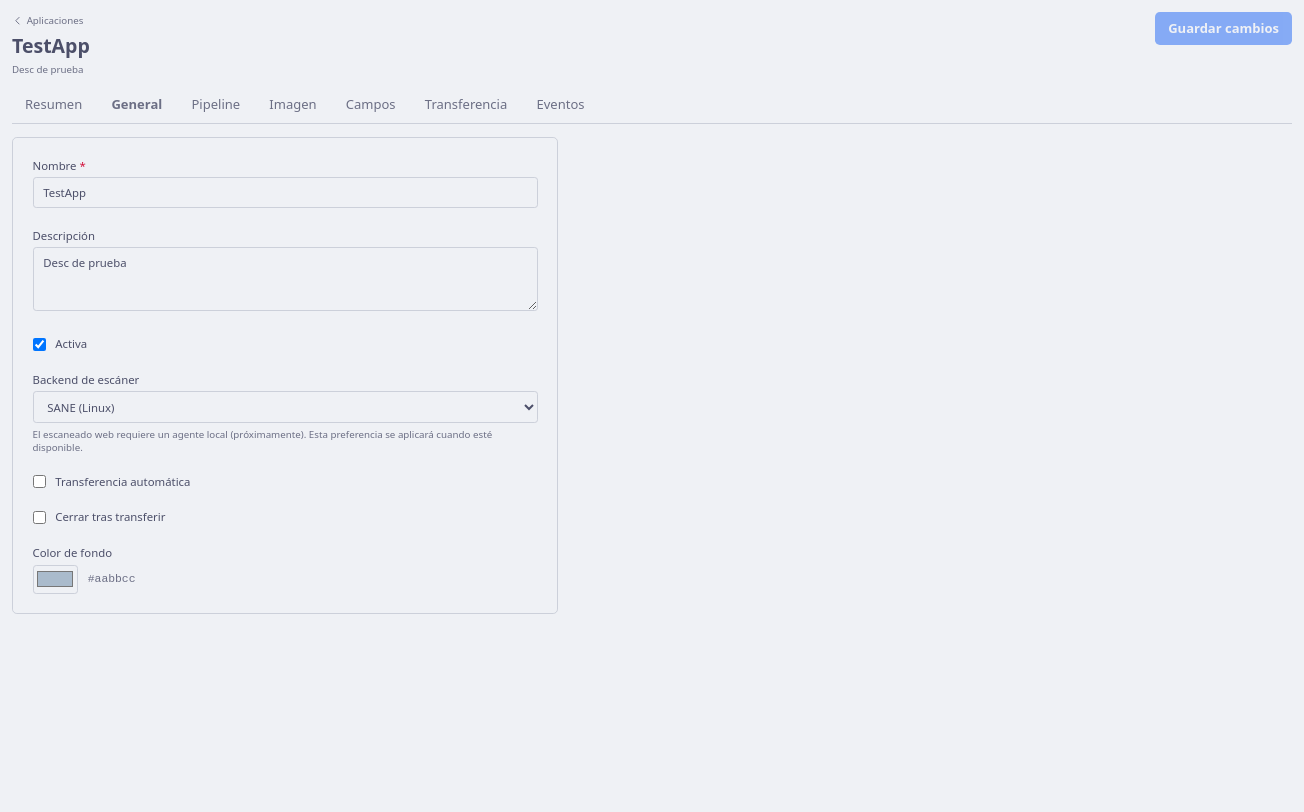
Test: GeneralConfigEditorView › 3. cambiar el checkbox active activa hasChanges
Expected: the button with test id "save-general" is disabled, [1155,12,1292,44]
Click the checkbox with test id "field-active": x=39, y=344 [32,338,46,351]
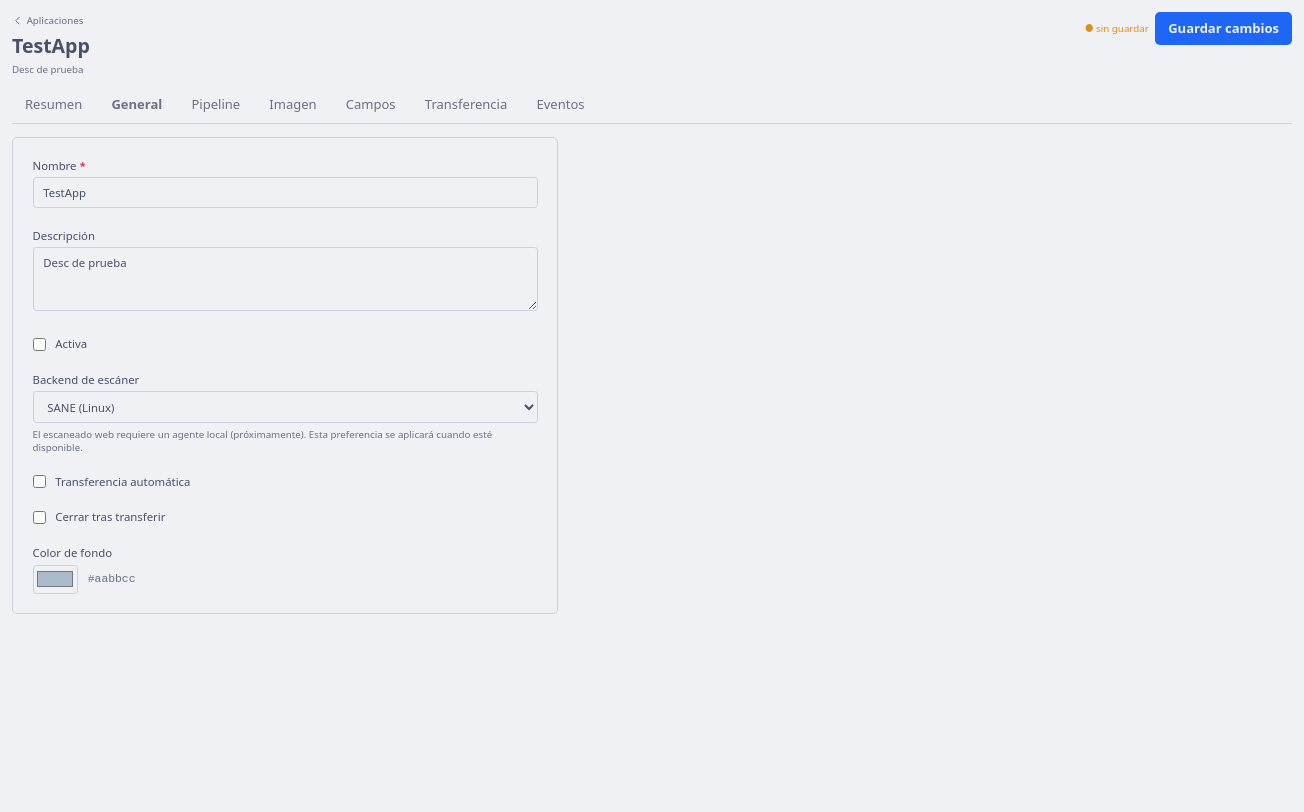
Expected: the button with test id "save-general" is enabled, [1155,12,1292,44]
